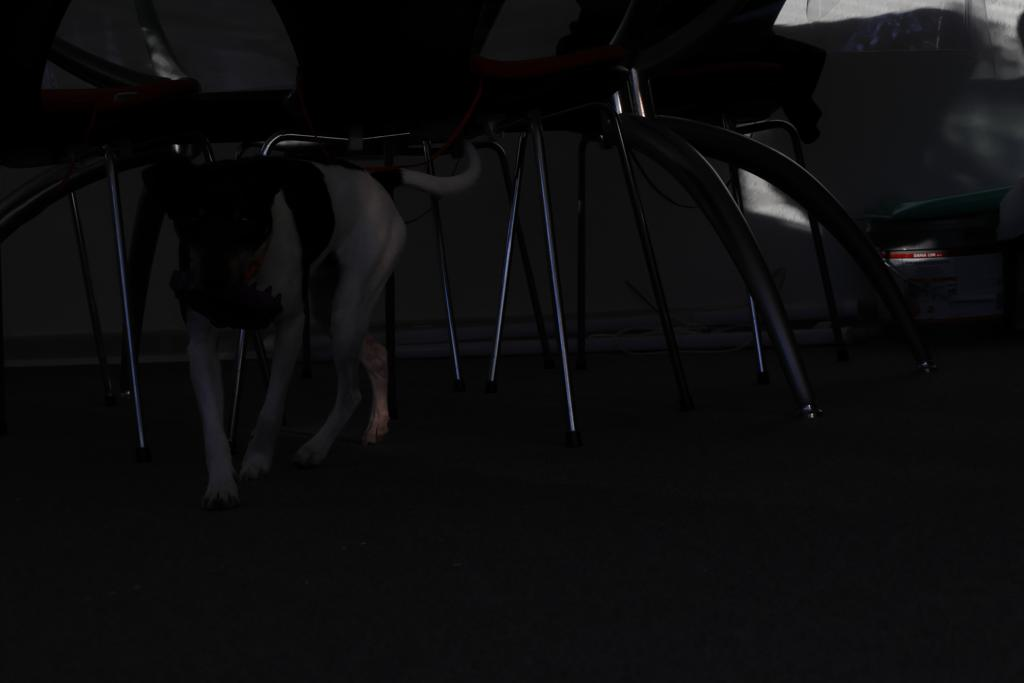Dog: (147, 131, 496, 523)
